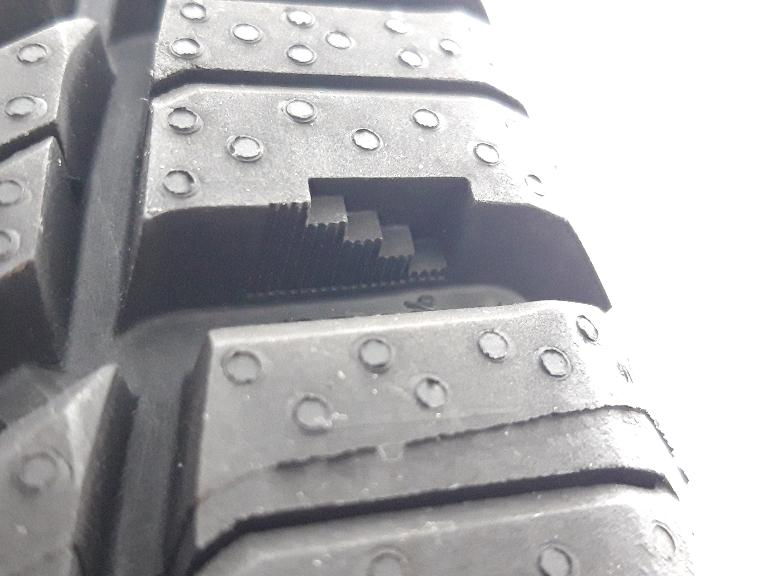temoin:100: (237, 168, 486, 307)
